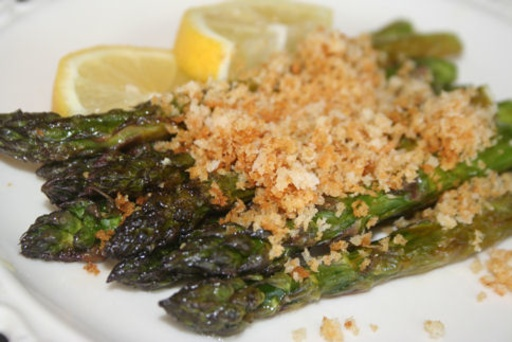background: (0, 0, 410, 181)
